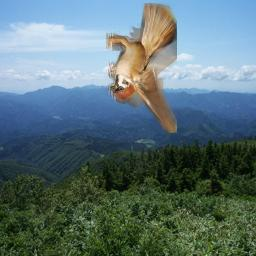Sparrow: (106, 3, 177, 133)
